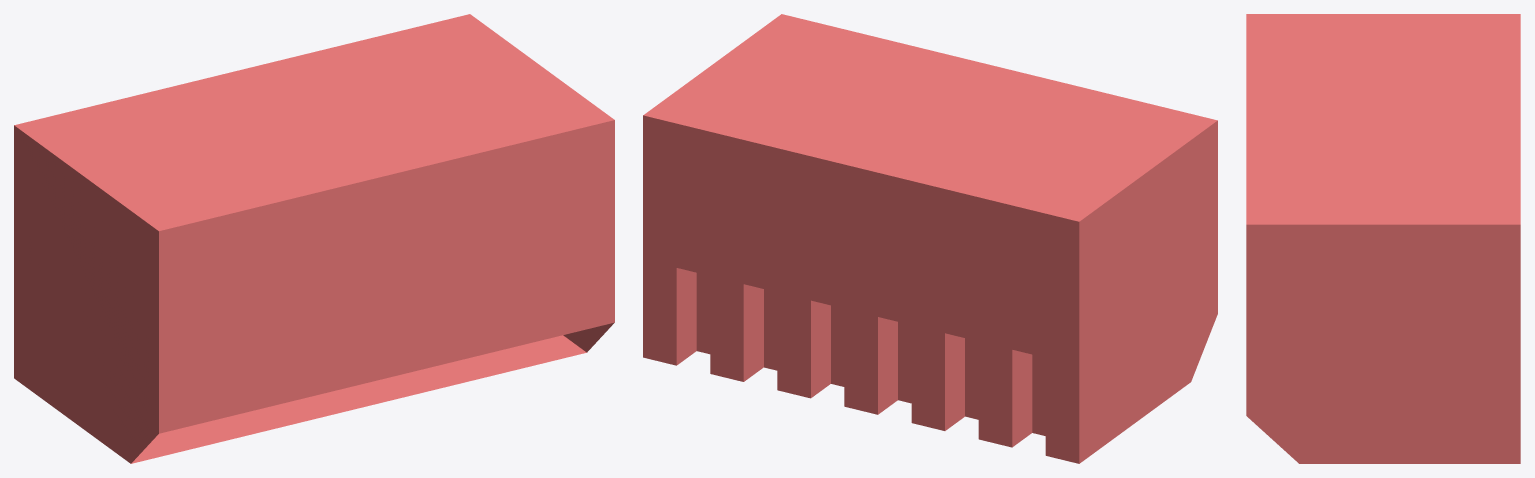
File: zatana_terra_base_vis_95.dae
3 views of the same model, side by side, from view 1: azimuth 30°, elevation 25°; view 2: azimuth 150°, elevation 25°; view 3: azimuth 270°, elevation 25° (orthographic). The views are drawn at different scales.
Visible parts, largest first — view 1: Node_000002318374B5A0; view 2: Node_000002318374B5A0; view 3: Node_000002318374B5A0.
Boxes of the visible parts, x1,y1,x2,y2 form: Node_000002318374B5A0: [14, 14, 614, 463]; Node_000002318374B5A0: [643, 14, 1217, 463]; Node_000002318374B5A0: [1246, 14, 1520, 463].
Size of the model in its own units: 0.0188 by 0.01 by 0.0104.
